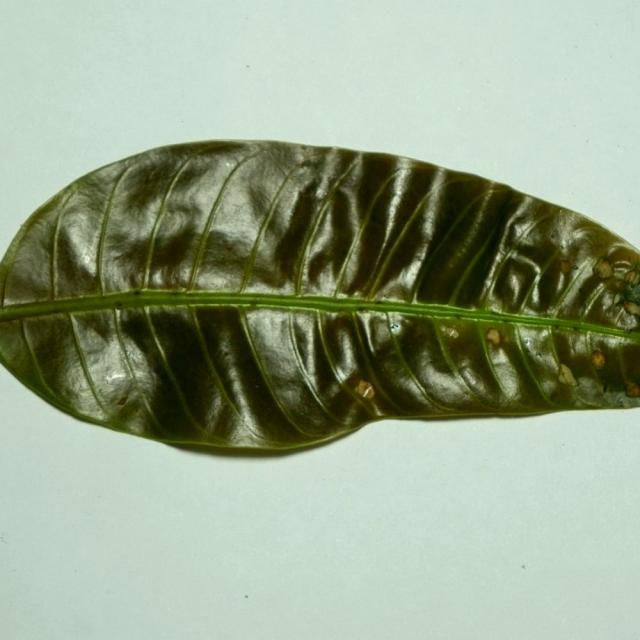Anthracnose: (415, 317, 504, 399), (3, 290, 143, 329), (593, 348, 637, 399), (345, 368, 381, 410), (592, 254, 635, 285), (306, 246, 335, 284), (557, 363, 578, 387), (578, 281, 599, 301), (590, 349, 606, 370), (622, 300, 640, 318), (412, 323, 430, 340), (485, 329, 501, 346), (164, 281, 187, 292), (442, 325, 460, 339), (299, 158, 318, 169), (560, 259, 571, 274), (612, 292, 623, 306), (624, 324, 638, 334), (116, 396, 128, 406), (245, 301, 257, 311), (489, 310, 504, 317), (390, 322, 400, 332), (0, 321, 13, 328), (570, 323, 581, 330), (550, 229, 558, 238), (281, 291, 290, 299), (356, 306, 366, 312), (115, 301, 123, 307), (133, 290, 141, 296), (455, 314, 463, 320), (375, 300, 383, 305), (554, 323, 560, 329)
Mango: (0, 140, 639, 461)
